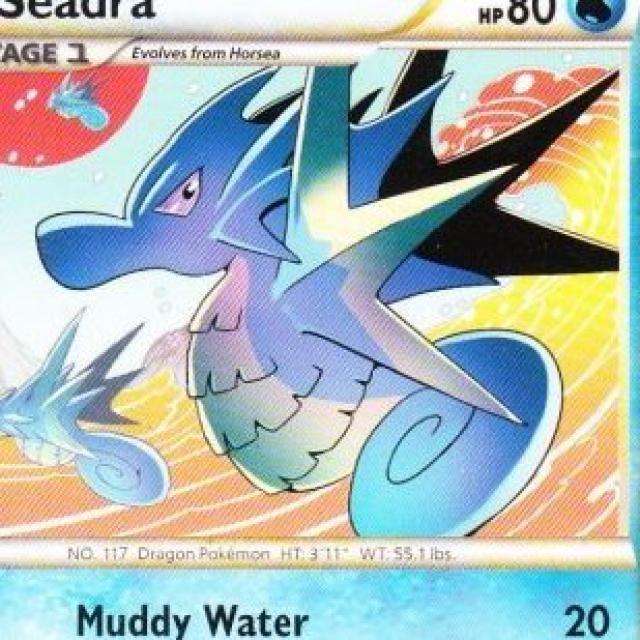Seadra: (34, 68, 565, 533)
